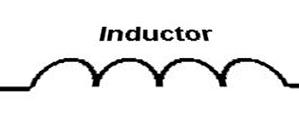inductor: (17, 53, 290, 100)
